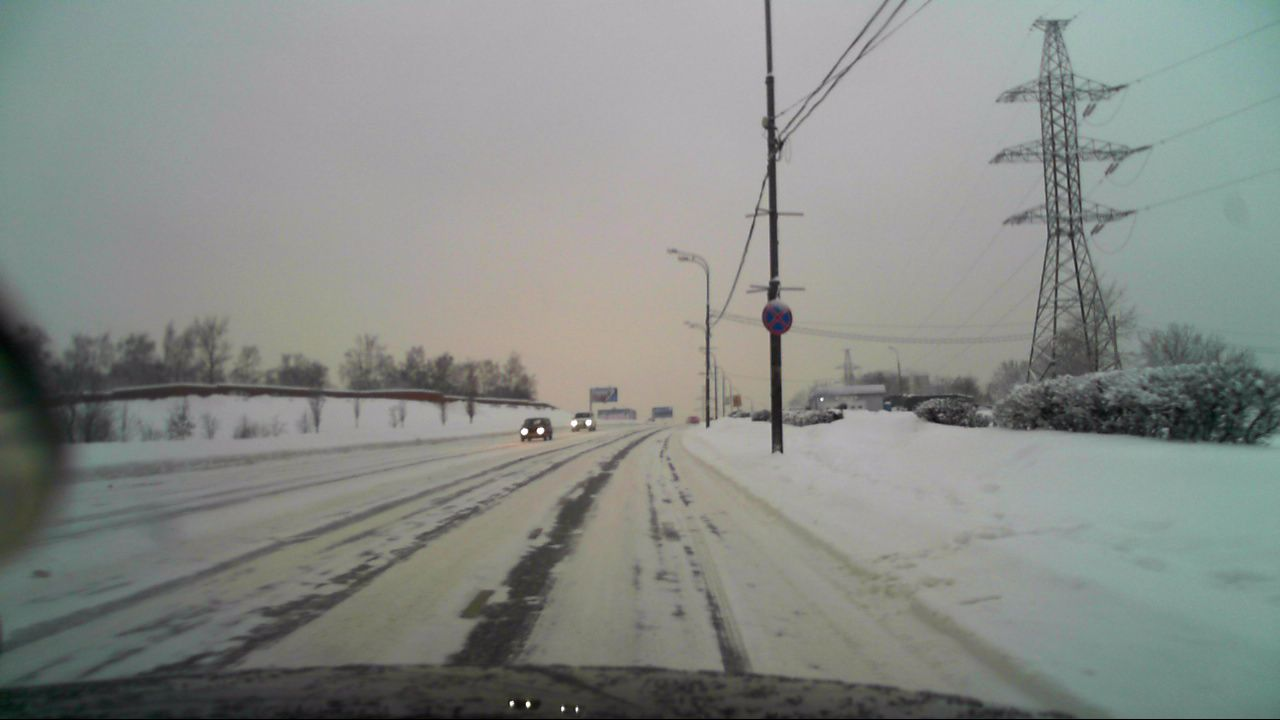No Parking: (760, 297, 795, 335)
